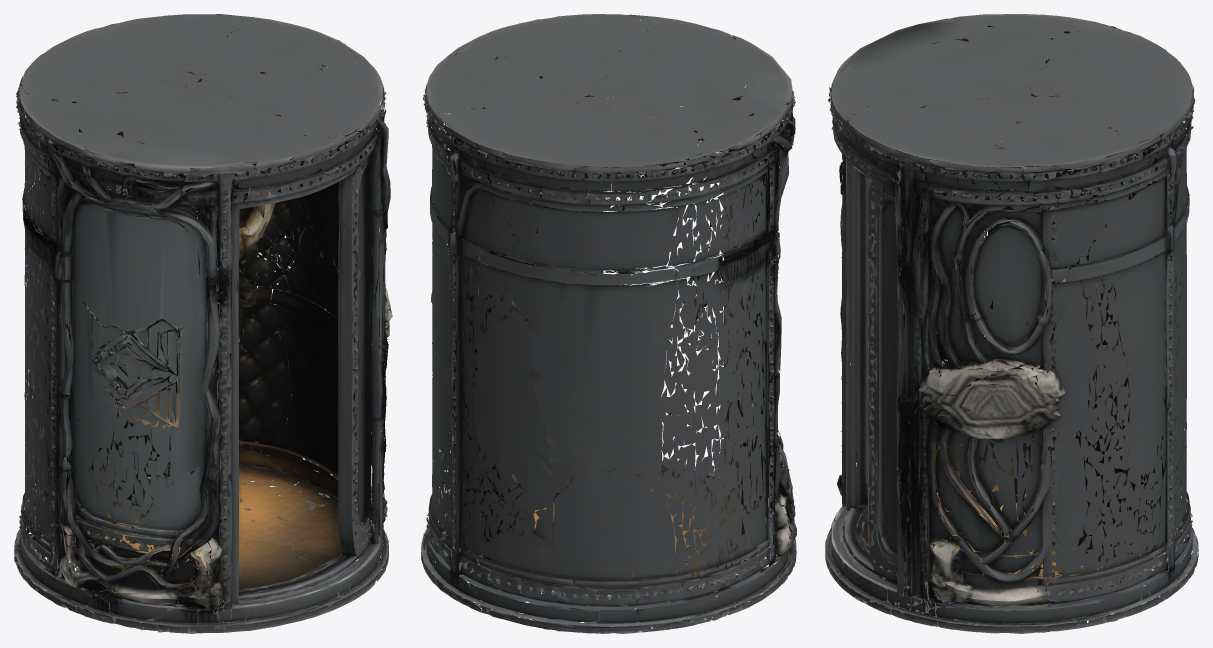
The model's file is corp_executive_whisper_booth.glb.
3 views of the same model, side by side, from view 1: azimuth 30°, elevation 25°; view 2: azimuth 150°, elevation 25°; view 3: azimuth 270°, elevation 25° (orthographic).
Parts seen in each view (by area): view 1: node_0; view 2: node_0; view 3: node_0.
Boxes of the visible parts, x1,y1,x2,y2 form: node_0: [14, 14, 392, 633]; node_0: [421, 14, 796, 633]; node_0: [825, 14, 1198, 633].
Size of the model in its own units: 0.7105 by 0.9727 by 0.7067.
1 material, 1 textured.
